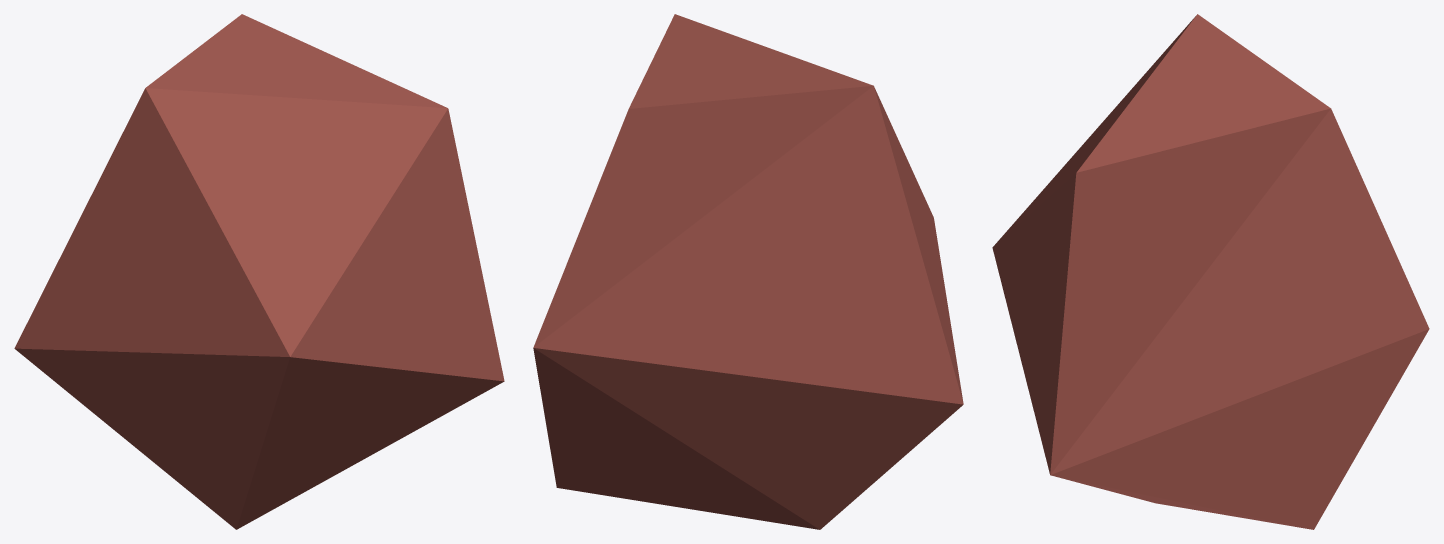
File: Bean_singlar.fbx
The picture shows the model from 3 angles, left to right: view 1: azimuth 30°, elevation 25°; view 2: azimuth 150°, elevation 25°; view 3: azimuth 270°, elevation 25°; orthographic projection. The views are drawn at different scales.
Visible parts, largest first — view 1: Beans_5; view 2: Beans_5; view 3: Beans_5.
Boxes of the visible parts, left/top/right/bottom form: Beans_5: left=14, top=14, right=504, bottom=529; Beans_5: left=533, top=14, right=963, bottom=529; Beans_5: left=992, top=14, right=1429, bottom=529.
Bounding box in the file's own units: 5.59 × 6.01 × 5.25.
